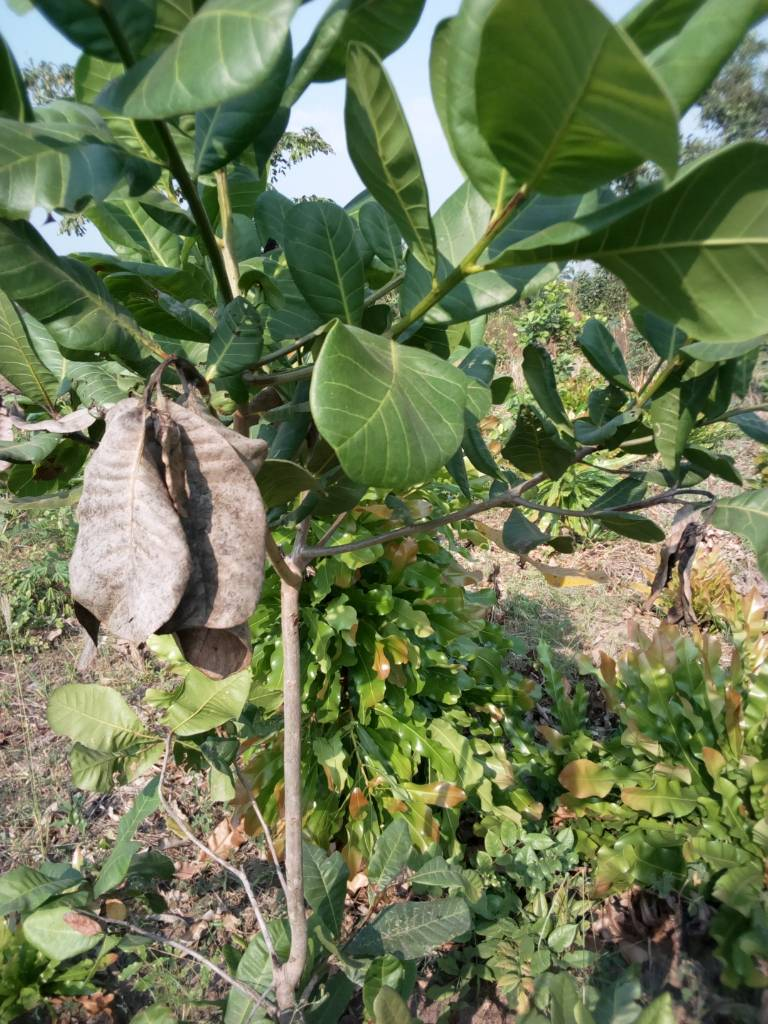Dessèchement des bourgeons: (75, 382, 274, 638), (649, 517, 713, 614)
